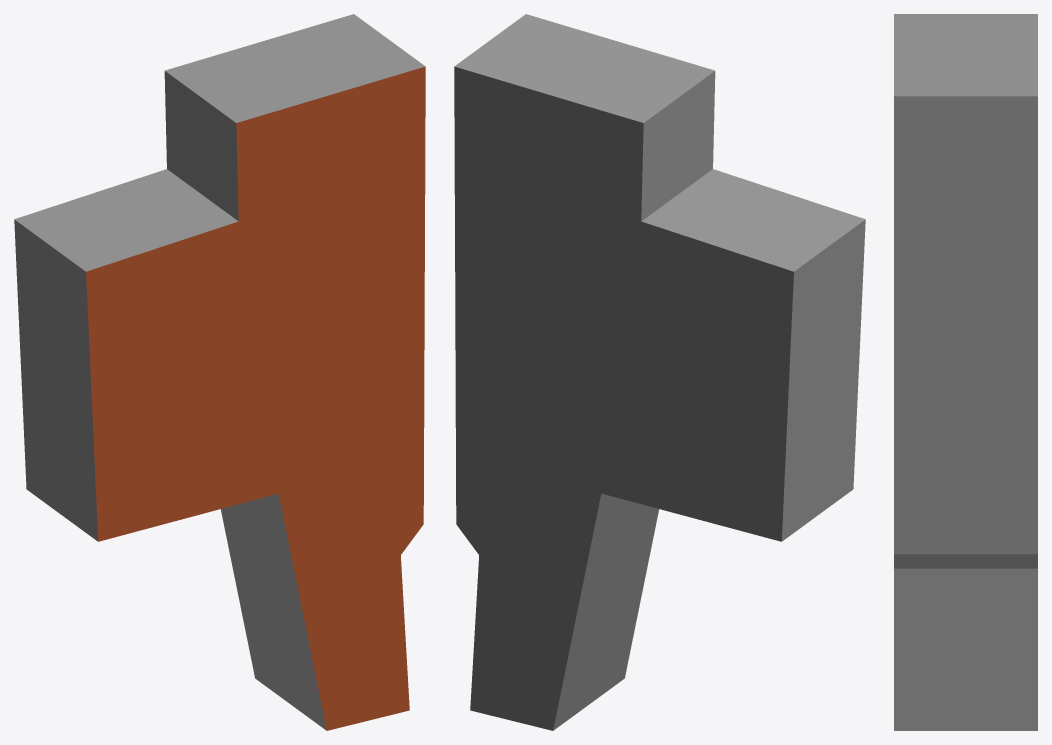
Rendered from construction_4099_assumed_A_Casa_h6m.obj.
The picture shows the model from 3 angles, left to right: view 1: azimuth 30°, elevation 25°; view 2: azimuth 150°, elevation 25°; view 3: azimuth 270°, elevation 25°; orthographic projection.
Visible parts, largest first — view 1: construction_4099_assumed_A_Casa; view 2: construction_4099_assumed_A_Casa; view 3: construction_4099_assumed_A_Casa.
Boxes of the visible parts, x1,y1,x2,y2 form: construction_4099_assumed_A_Casa: (14, 14, 425, 730); construction_4099_assumed_A_Casa: (454, 14, 865, 730); construction_4099_assumed_A_Casa: (894, 14, 1037, 730).
Bounding box in the file's own units: 16.41 × 29.56 × 6.
